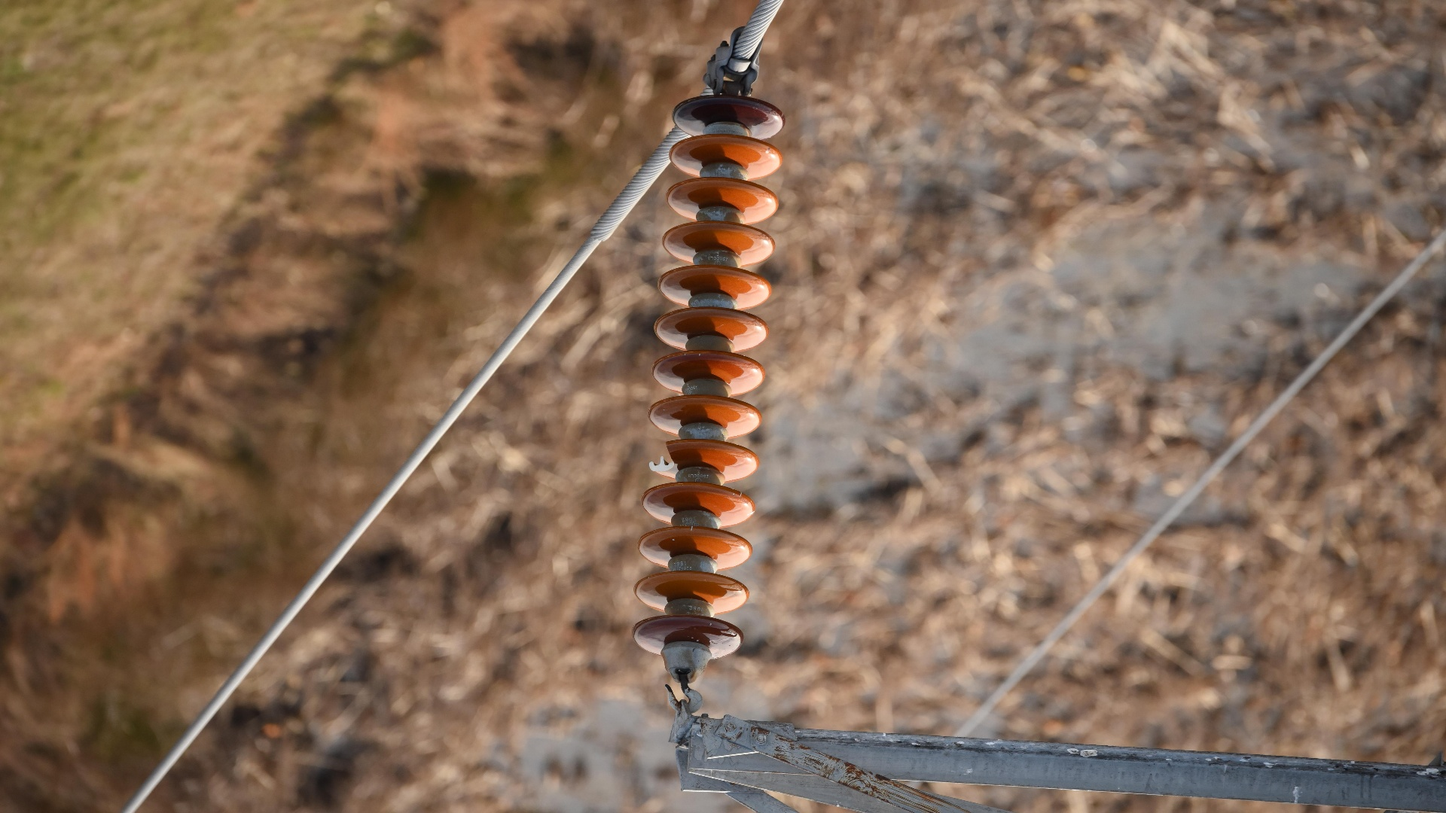insulator: (627, 88, 789, 665)
insulator_breakage: (646, 437, 683, 476)
